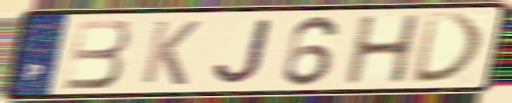6: (280, 13, 341, 88)
B: (60, 17, 133, 92)
D: (409, 12, 488, 86)
H: (343, 12, 424, 87)
J: (210, 17, 276, 86)
K: (137, 18, 204, 88)
